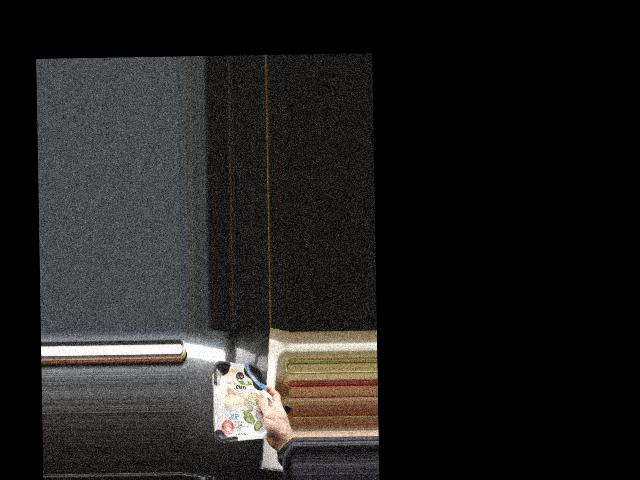cheese: (213, 362, 274, 442)
